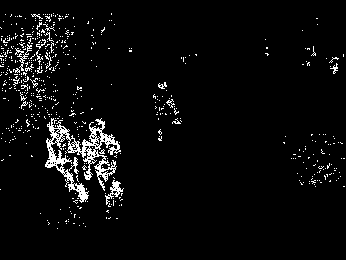person: (81, 119, 132, 221), (42, 119, 84, 217)
